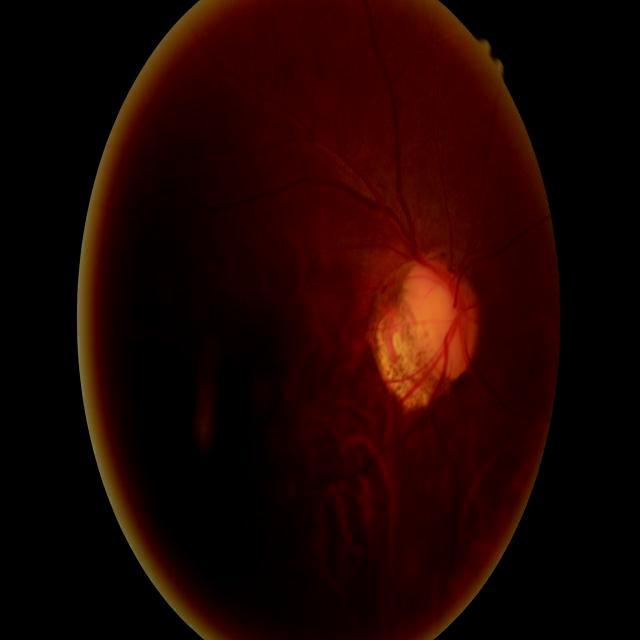cup: (426, 278, 464, 363)
disk: (423, 267, 480, 377)
